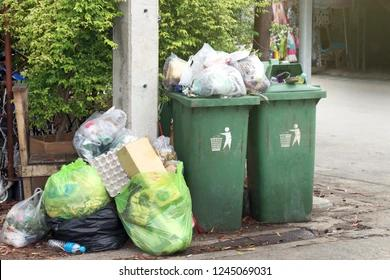garbage: (1, 104, 190, 254), (158, 30, 316, 104)
